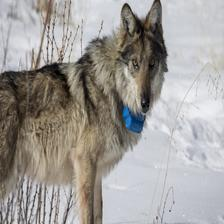WOLF: (91, 0, 168, 126)
